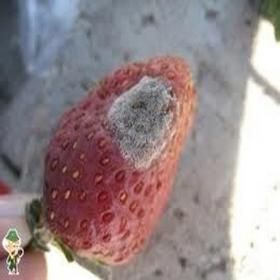Gray Mold: (101, 73, 181, 175)
